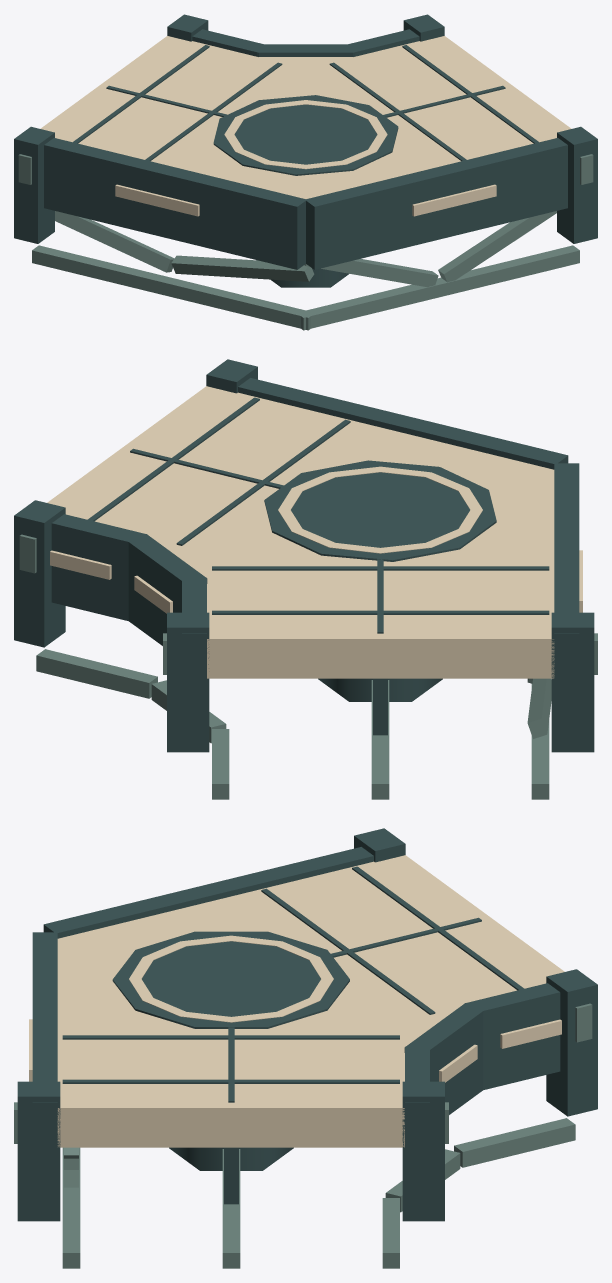
The model's file is Bend_120_lab2.glb.
3 renders of one model, top to bottom at view 1: azimuth 30°, elevation 25°; view 2: azimuth 150°, elevation 25°; view 3: azimuth 270°, elevation 25°, orthographic. The views are drawn at different scales.
Parts seen in each view (by area): view 1: Bend_120; view 2: Bend_120; view 3: Bend_120.
Part boxes in pixels (x1=…): Bend_120: x1=14, y1=14, x2=597, y2=330; Bend_120: x1=14, y1=359, x2=597, y2=799; Bend_120: x1=14, y1=828, x2=597, y2=1268.
Bounding box in the file's own units: 5.09 × 1.58 × 4.67.
